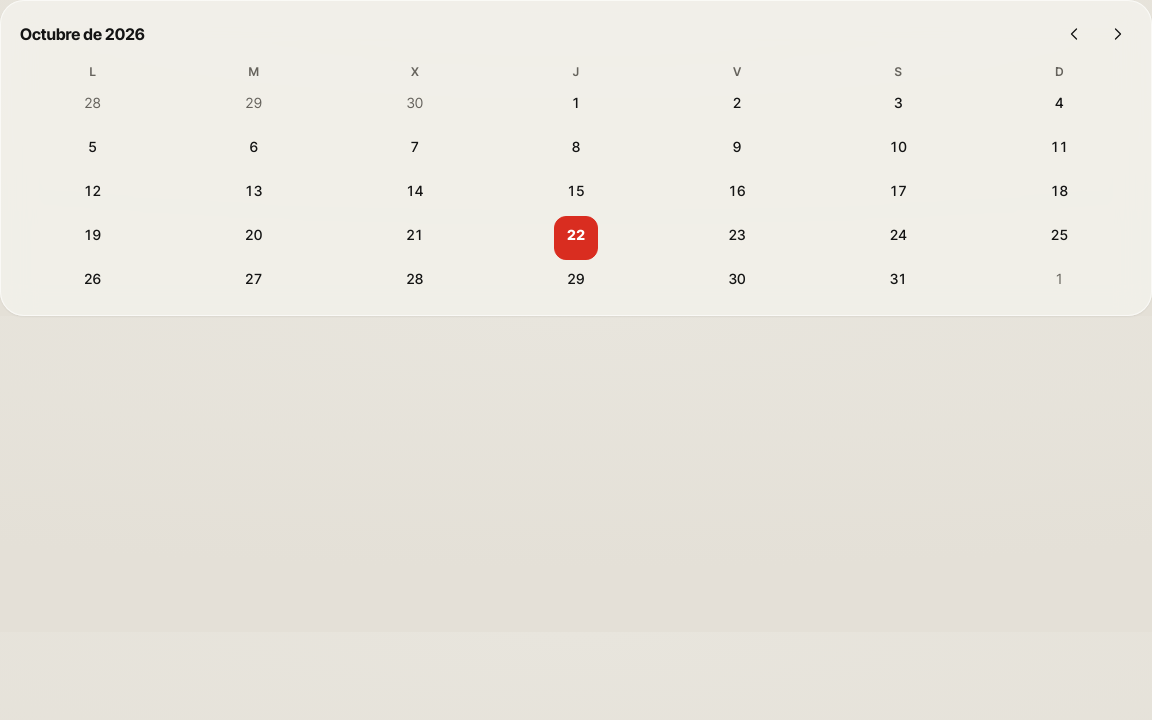
MiniMonth months (RF-26) › loads the marks of another month without leaving the view
Click the 2nd button named "Mostrar mes siguiente": point(1118, 34) [1096,12,1140,56]
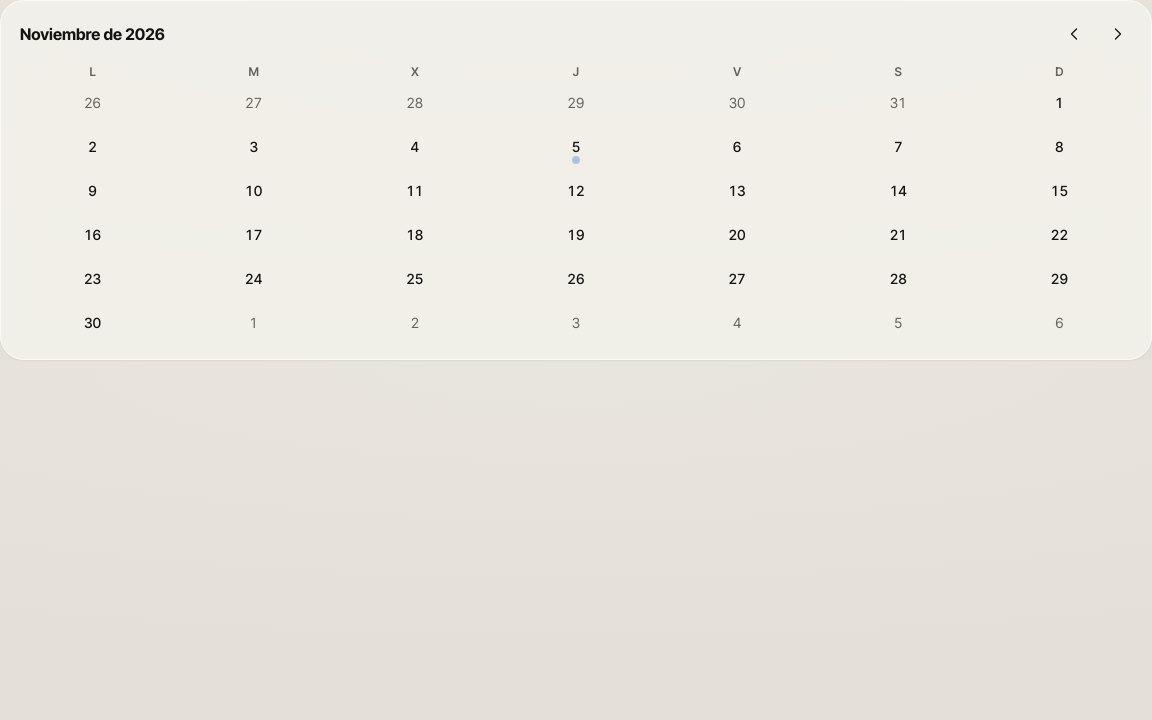
Check: the heading "noviembre de 2026" is shown, box [12,22,165,46]
